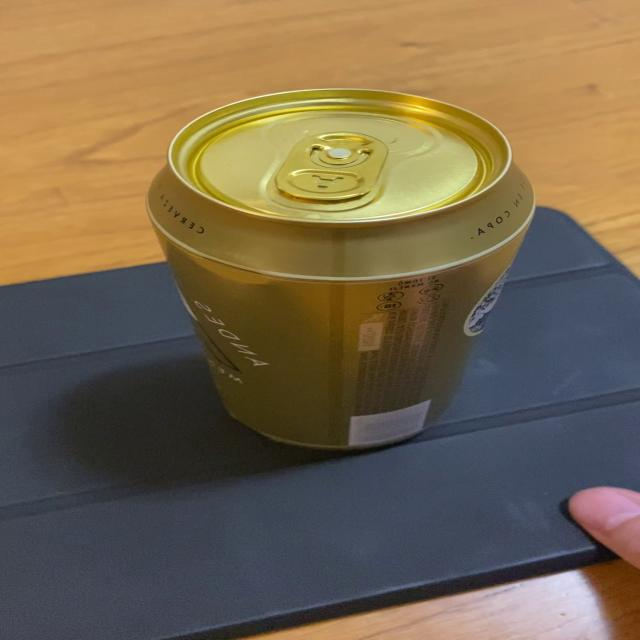metal: (145, 90, 534, 449)
